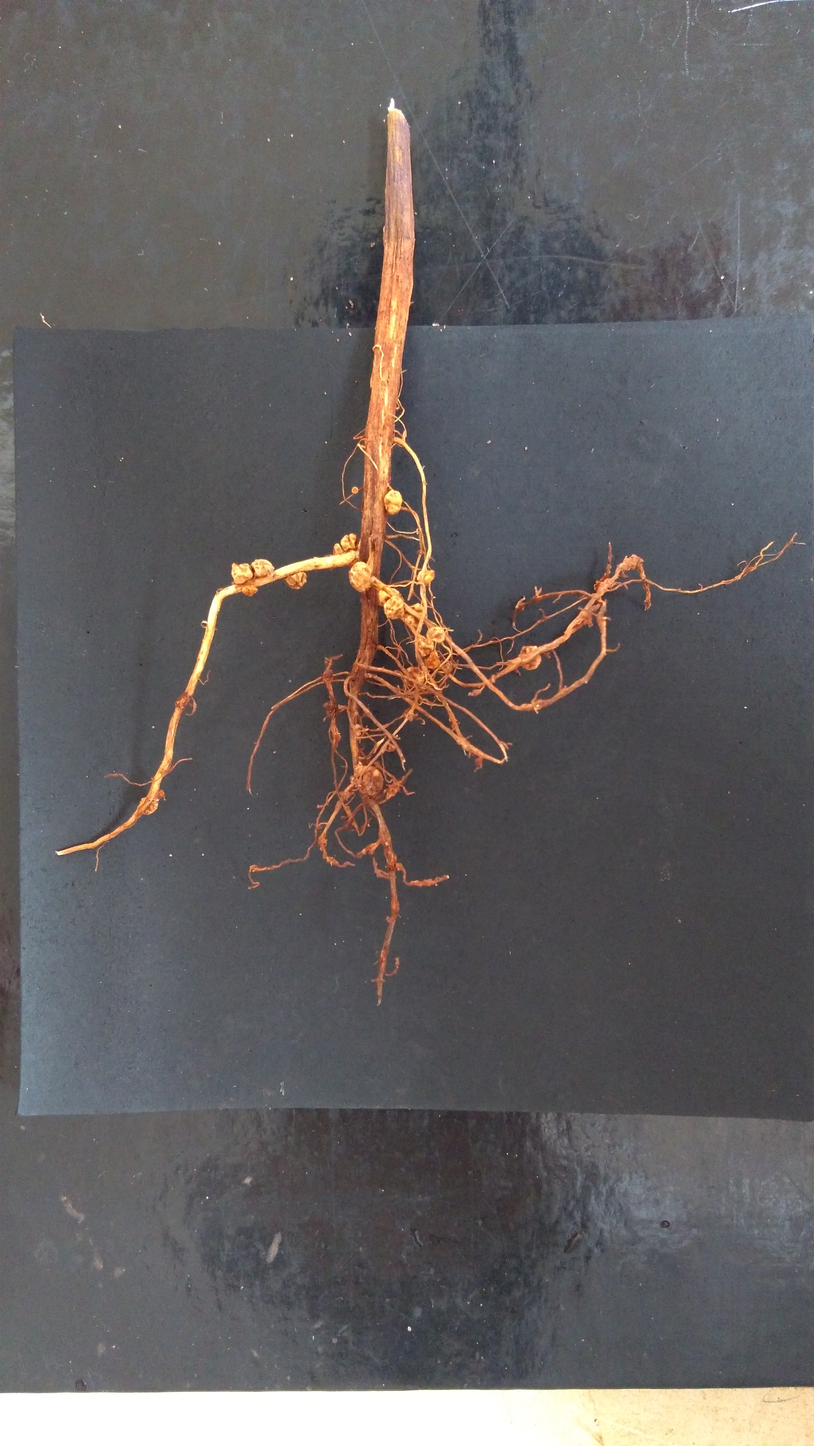nodule: (348, 561, 373, 593), (361, 765, 384, 797), (517, 644, 542, 672), (400, 603, 427, 628), (377, 587, 405, 608), (403, 666, 425, 689), (383, 595, 404, 619), (383, 489, 402, 515), (231, 562, 253, 584), (250, 558, 274, 578), (283, 571, 308, 590), (137, 796, 159, 816), (596, 577, 617, 596), (416, 636, 434, 657), (620, 554, 640, 572), (423, 650, 441, 669), (425, 626, 445, 643), (340, 533, 357, 552), (416, 569, 435, 584), (385, 782, 400, 799), (322, 701, 336, 719), (241, 584, 258, 597), (441, 661, 455, 676), (317, 834, 328, 852), (322, 668, 334, 684), (324, 554, 334, 571), (333, 543, 344, 556), (349, 775, 360, 787), (155, 789, 165, 800), (407, 713, 415, 722), (415, 527, 423, 535), (351, 486, 358, 494), (354, 723, 362, 730), (356, 729, 361, 737), (353, 711, 358, 716)
